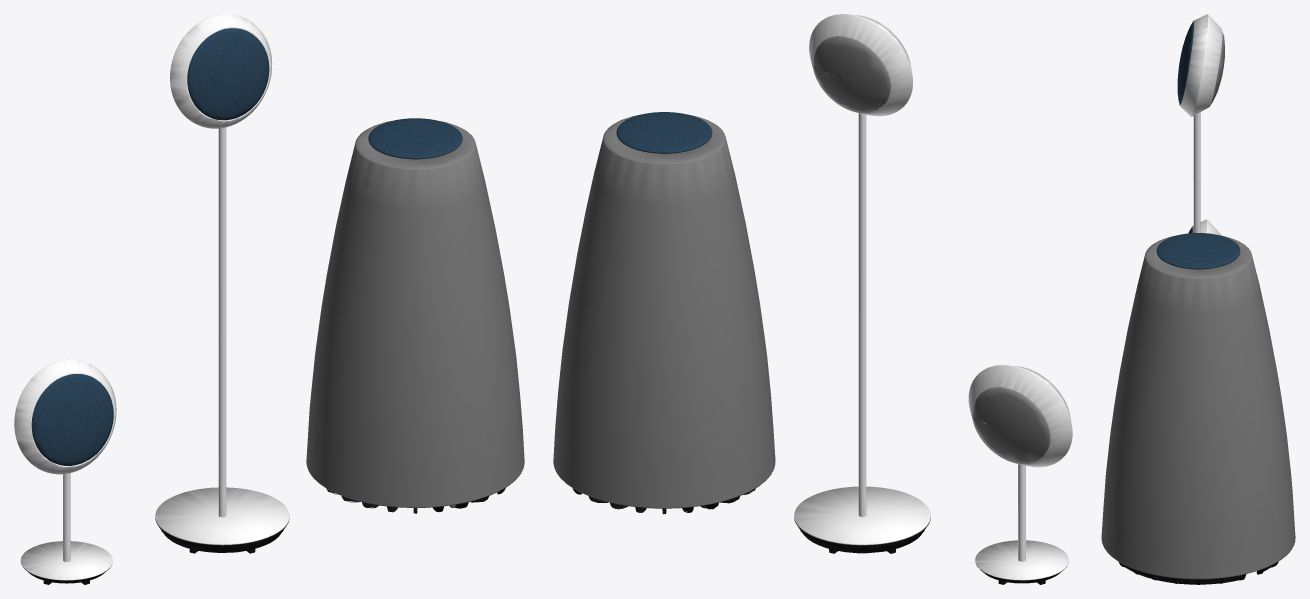
The model's file is hifi-speakers.glb.
The picture shows the model from 3 angles, left to right: view 1: azimuth 30°, elevation 25°; view 2: azimuth 150°, elevation 25°; view 3: azimuth 270°, elevation 25°; orthographic projection. The views are drawn at different scales.
Parts seen in each view (by area): view 1: Object_1, Object_0, Object_10, Object_2; view 2: Object_1, Object_0, Object_10, Object_2; view 3: Object_1, Object_0, Object_10, Object_2.
Part boxes in pixels (x1,y1,x2,y2): Object_1: (306, 121, 524, 507); Object_0: (14, 14, 289, 580); Object_10: (31, 28, 462, 465); Object_2: (23, 488, 505, 584); Object_1: (553, 37, 1049, 508); Object_0: (794, 14, 1072, 580); Object_10: (616, 112, 712, 153); Object_2: (572, 488, 1066, 584); Object_1: (1101, 32, 1295, 579); Object_0: (1179, 14, 1222, 235); Object_10: (1156, 22, 1240, 269); Object_2: (1119, 561, 1278, 584).
Size of the model in its own units: 1.11 by 1.1 by 0.4252.
4 materials, 1 textured.
